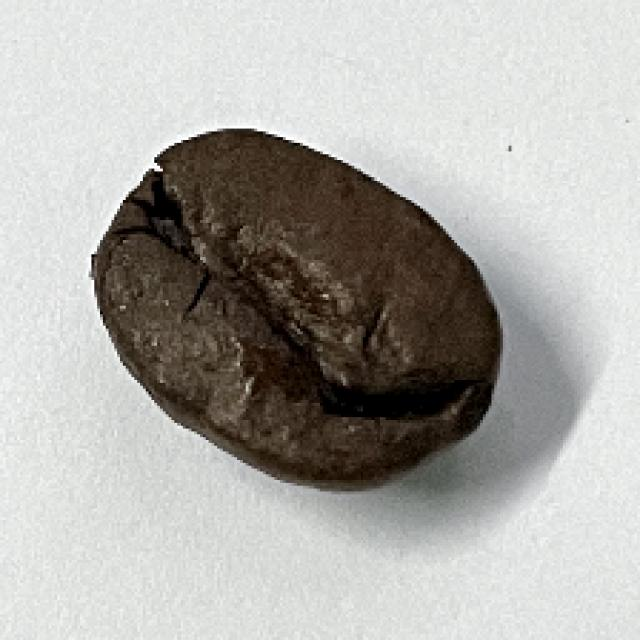bean: (82, 127, 504, 491)
